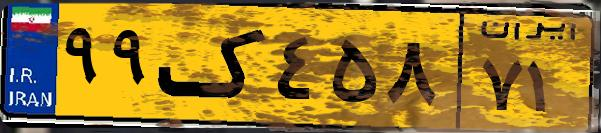1: (525, 38, 570, 115)
4: (270, 28, 330, 110)
5: (330, 28, 385, 110)
7: (475, 38, 525, 113)
8: (385, 28, 445, 110)
9: (57, 26, 110, 100), (110, 28, 158, 98)
ک: (158, 12, 270, 120)
